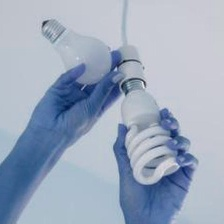light_bulb: (114, 75, 186, 190), (36, 17, 113, 90)
